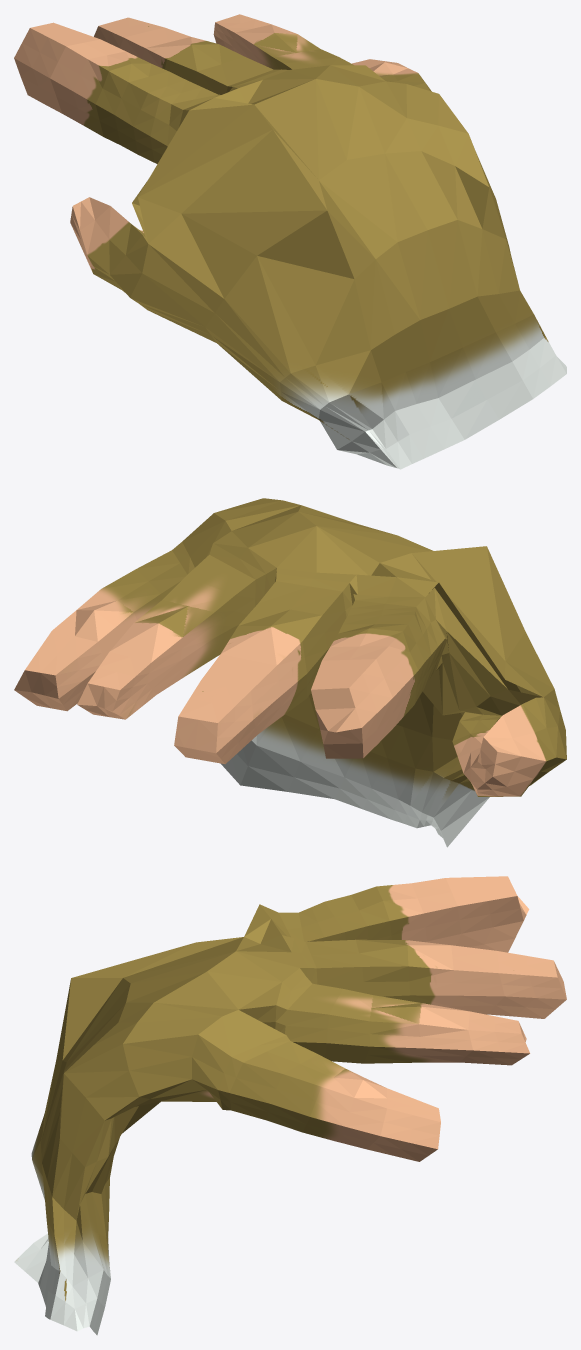
Rendered from flexion0040.obj.
The picture shows the model from 3 angles, top to bottom: view 1: azimuth 30°, elevation 25°; view 2: azimuth 150°, elevation 25°; view 3: azimuth 270°, elevation 25°; orthographic projection. The views are drawn at different scales.
Parts seen in each view (by area): view 1: Hand; view 2: Hand; view 3: Hand.
Boxes of the visible parts, x1,y1,x2,y2 form: Hand: (14, 14, 566, 469); Hand: (14, 498, 566, 847); Hand: (14, 876, 566, 1335).
Size of the model in its own units: 3.27 by 2.57 by 3.83.
